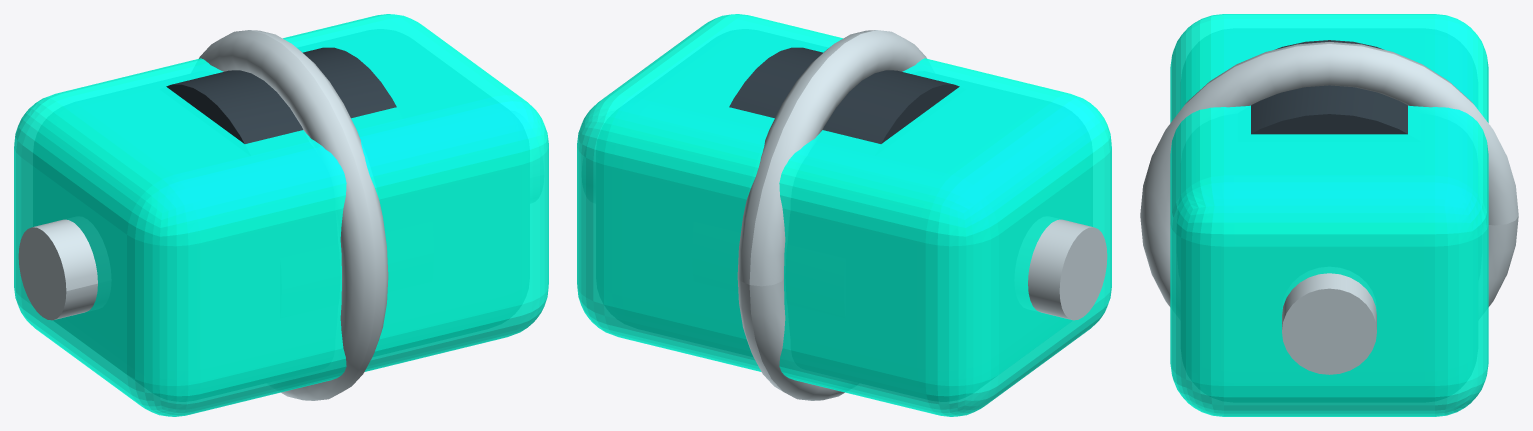
The model's file is g4ed_starter.glb.
3 views of the same model, side by side, from view 1: azimuth 30°, elevation 25°; view 2: azimuth 150°, elevation 25°; view 3: azimuth 270°, elevation 25° (orthographic).
Parts seen in each view (by area): view 1: asset_mesh__g4ed_321__reference_body, asset_mesh__g4ed_335__reference_body, asset_mesh__g4ed_328__reference_rim, asset_mesh__g4ed_328__reference_rotor, asset_mesh__g4ed_341__reference_axis; view 2: asset_mesh__g4ed_321__reference_body, asset_mesh__g4ed_335__reference_body, asset_mesh__g4ed_328__reference_rim, asset_mesh__g4ed_328__reference_rotor, asset_mesh__g4ed_341__reference_axis; view 3: asset_mesh__g4ed_321__reference_body, asset_mesh__g4ed_335__reference_body, asset_mesh__g4ed_328__reference_rim, asset_mesh__g4ed_341__reference_axis, asset_mesh__g4ed_328__reference_rotor.
Part boxes in pixels (box(x1,y1,x2,y2)): asset_mesh__g4ed_321__reference_body: box(14, 14, 548, 416); asset_mesh__g4ed_335__reference_body: box(14, 14, 548, 416); asset_mesh__g4ed_328__reference_rim: box(199, 30, 388, 400); asset_mesh__g4ed_328__reference_rotor: box(166, 47, 396, 144); asset_mesh__g4ed_341__reference_axis: box(18, 219, 97, 320); asset_mesh__g4ed_321__reference_body: box(577, 14, 1111, 416); asset_mesh__g4ed_335__reference_body: box(577, 14, 1111, 416); asset_mesh__g4ed_328__reference_rim: box(737, 30, 926, 400); asset_mesh__g4ed_328__reference_rotor: box(729, 47, 959, 144); asset_mesh__g4ed_341__reference_axis: box(1028, 219, 1107, 320); asset_mesh__g4ed_321__reference_body: box(1170, 14, 1488, 416); asset_mesh__g4ed_335__reference_body: box(1171, 14, 1487, 416); asset_mesh__g4ed_328__reference_rim: box(1140, 42, 1518, 307); asset_mesh__g4ed_341__reference_axis: box(1282, 273, 1376, 374); asset_mesh__g4ed_328__reference_rotor: box(1251, 40, 1407, 134).
Bounding box in the file's own units: 1.85 × 1.27 × 1.27.
